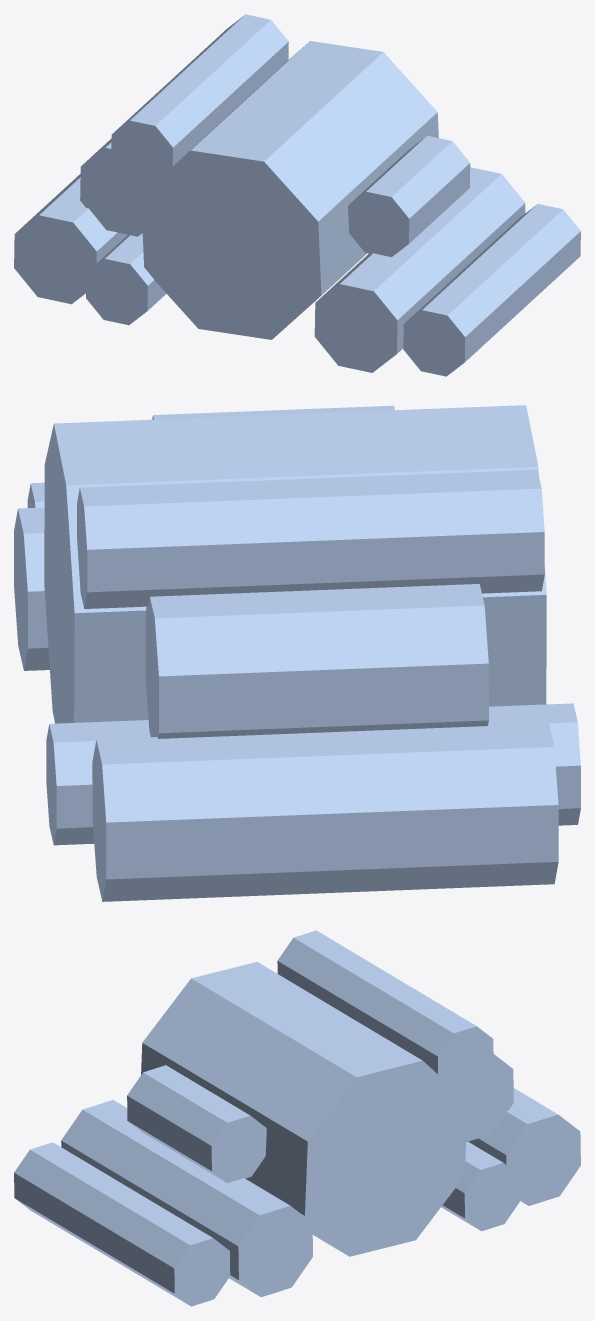
File: Asset_BlockSnow_Logs_01.fbx
3 renders of one model, top to bottom at view 1: azimuth 30°, elevation 25°; view 2: azimuth 150°, elevation 25°; view 3: azimuth 270°, elevation 25°, orthographic. The views are drawn at different scales.
Parts seen in each view (by area): view 1: pCylinder2, pCylinder6, pCylinder8, pCylinder5, pCylinder7, pCylinder3, pCylinder1, pCylinder4; view 2: pCylinder3, pCylinder2, pCylinder5, pCylinder4, pCylinder1, pCylinder6, pCylinder7; view 3: pCylinder2, pCylinder6, pCylinder8, pCylinder5, pCylinder7, pCylinder3, pCylinder1, pCylinder4.
Boxes of the visible parts, <box> form: pCylinder2: <box>141,41,438,339</box>; pCylinder6: <box>314,167,525,372</box>; pCylinder8: <box>403,204,580,376</box>; pCylinder5: <box>111,14,288,186</box>; pCylinder7: <box>348,135,470,257</box>; pCylinder3: <box>14,174,127,304</box>; pCylinder1: <box>86,233,166,325</box>; pCylinder4: <box>80,138,149,236</box>; pCylinder3: <box>92,721,558,901</box>; pCylinder2: <box>44,405,546,723</box>; pCylinder5: <box>77,469,544,608</box>; pCylinder4: <box>145,584,488,738</box>; pCylinder1: <box>46,703,580,845</box>; pCylinder6: <box>14,507,49,670</box>; pCylinder7: <box>152,405,394,419</box>; pCylinder2: <box>141,962,467,1256</box>; pCylinder6: <box>61,1100,312,1297</box>; pCylinder8: <box>14,1142,230,1306</box>; pCylinder5: <box>277,930,493,1093</box>; pCylinder7: <box>127,1065,266,1182</box>; pCylinder3: <box>468,1088,580,1205</box>; pCylinder1: <box>441,1142,520,1231</box>; pCylinder4: <box>459,1054,513,1142</box>.
Bounding box in the file's own units: 61.01 × 26.1 × 67.34.
